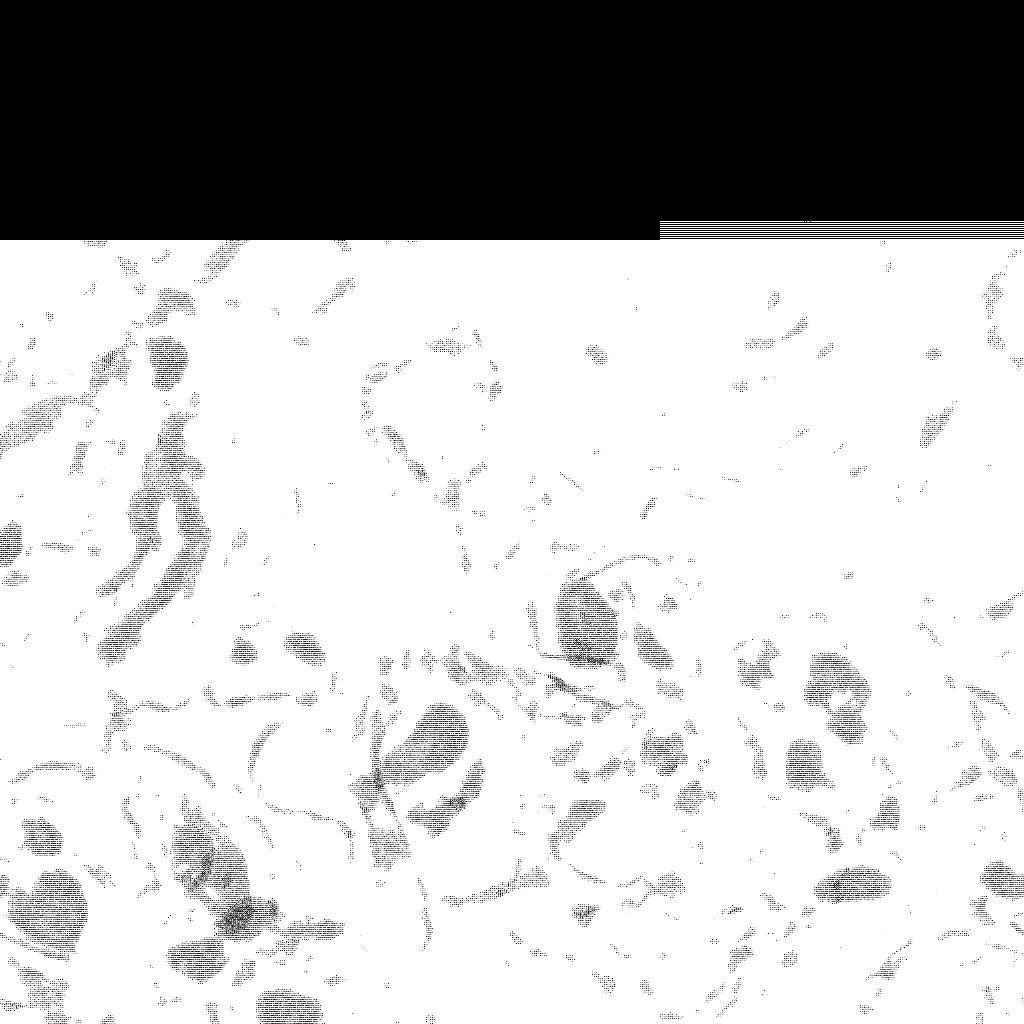axone: (344, 698, 472, 815), (551, 566, 625, 673), (7, 868, 91, 957), (802, 640, 874, 710), (202, 893, 283, 947), (812, 861, 898, 910), (159, 934, 234, 987), (137, 327, 196, 393), (780, 733, 841, 796), (631, 725, 693, 780), (11, 812, 73, 859), (252, 986, 328, 1024), (818, 704, 875, 750), (978, 851, 1024, 904), (279, 626, 330, 672), (1, 513, 37, 573)
